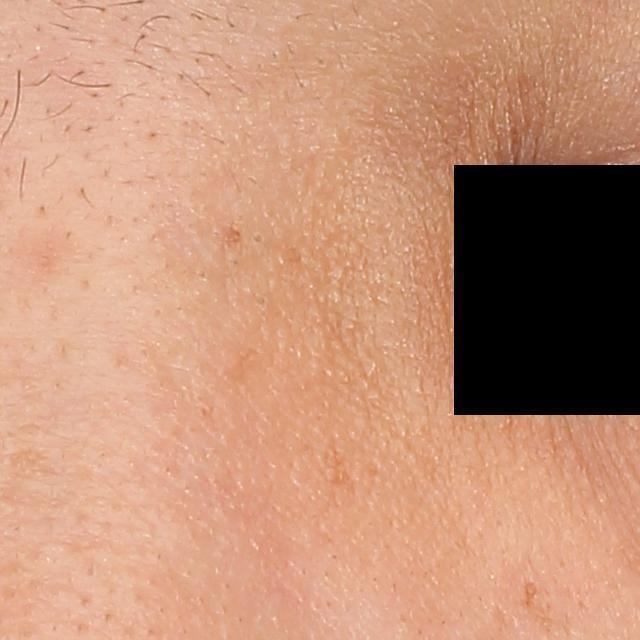melasma: (323, 432, 362, 505)
